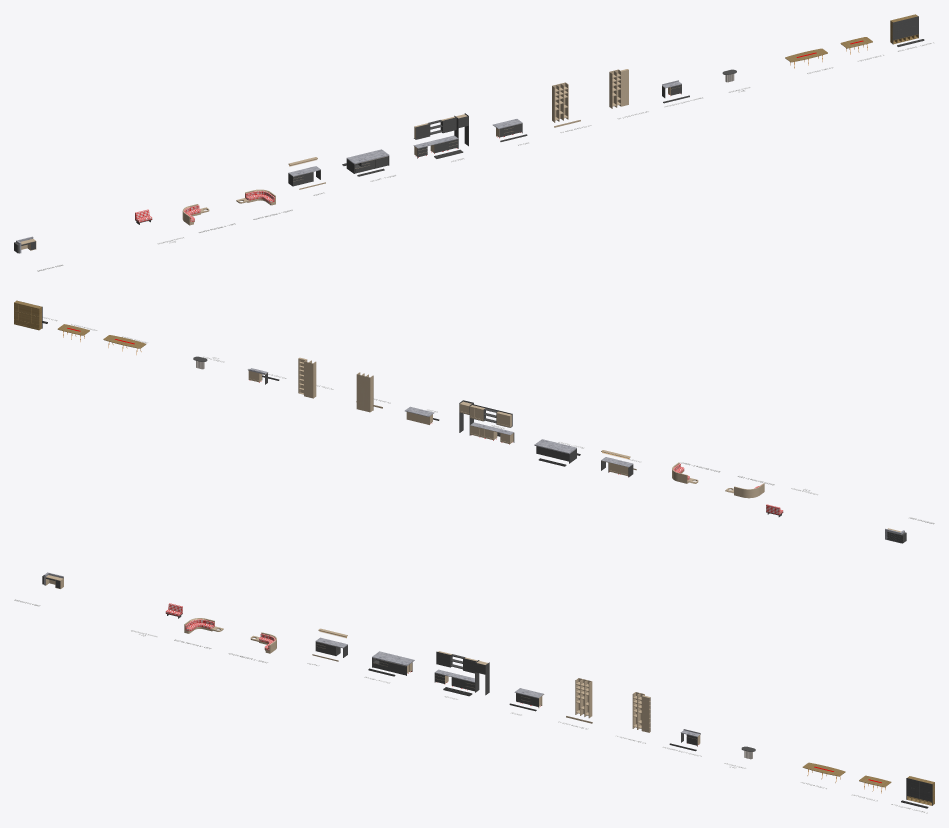
The picture shows the model from 3 angles, top to bottom: view 1: azimuth 30°, elevation 25°; view 2: azimuth 150°, elevation 25°; view 3: azimuth 330°, elevation 25°; orthographic projection.
Bounding box in the file's own units: 82.19 × 3.3 × 5.89.
12 materials, 9 textured.
